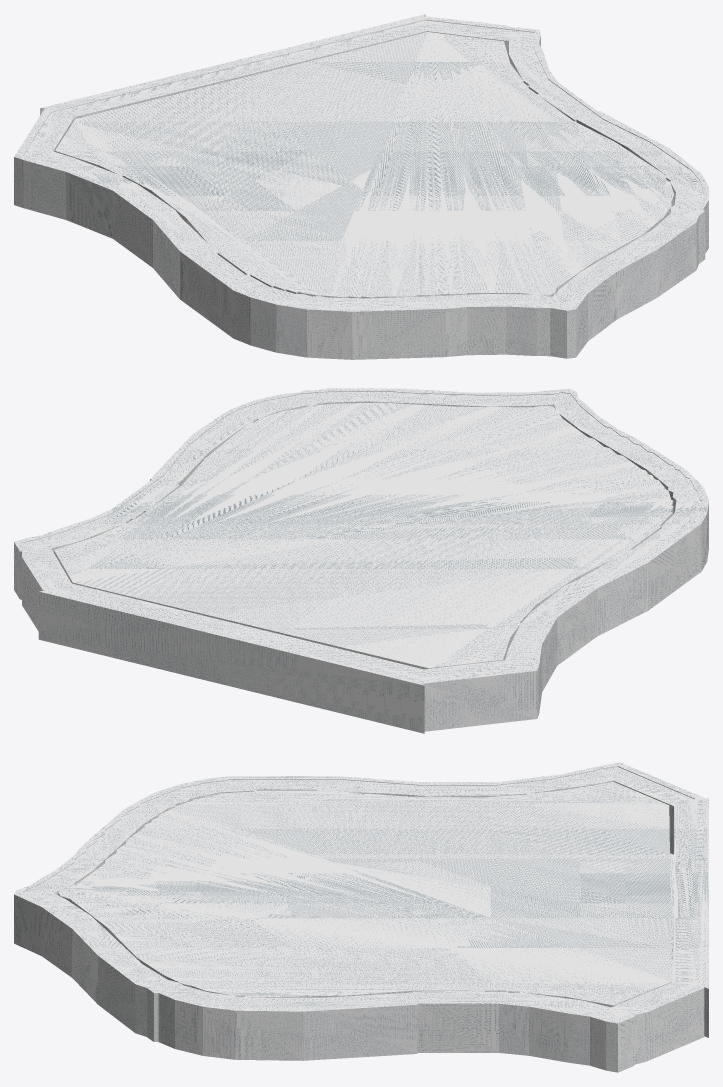
Rendered from Shield.dae.
3 renders of one model, top to bottom at view 1: azimuth 30°, elevation 25°; view 2: azimuth 150°, elevation 25°; view 3: azimuth 270°, elevation 25°, orthographic. The views are drawn at different scales.
Parts seen in each view (by area): view 1: SketchUp (×4); view 2: SketchUp (×4); view 3: SketchUp (×4).
Boxes of the visible parts, x1,y1,x2,y2 form: SketchUp (×4): [14, 14, 708, 359]; SketchUp (×4): [14, 388, 708, 733]; SketchUp (×4): [14, 762, 708, 1072].
Bounding box in the file's own units: 110 × 123 × 9.62.
